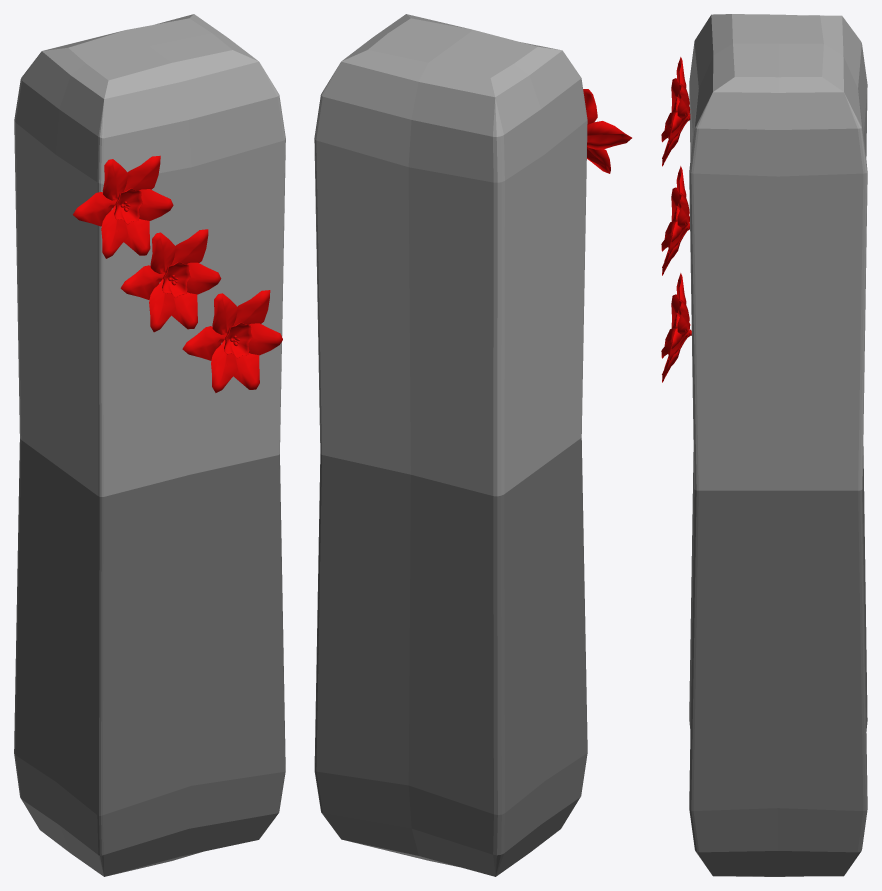
File: PL_LARGO_GEO.fbx
3 views of the same model, side by side, from view 1: azimuth 30°, elevation 25°; view 2: azimuth 150°, elevation 25°; view 3: azimuth 270°, elevation 25° (orthographic).
Parts seen in each view (by area): view 1: PL_Corto_DOWN3, Daffodil.yellow5, Daffodil.yellow6, Daffodil.yellow4; view 2: PL_Corto_DOWN3, Daffodil.yellow4; view 3: PL_Corto_DOWN3, Daffodil.yellow6, Daffodil.yellow4, Daffodil.yellow5.
Boxes of the visible parts, <box> form: PL_Corto_DOWN3: <box>14,14,285,876</box>; Daffodil.yellow5: <box>120,229,221,332</box>; Daffodil.yellow6: <box>182,290,282,392</box>; Daffodil.yellow4: <box>73,155,173,258</box>; PL_Corto_DOWN3: <box>314,14,587,876</box>; Daffodil.yellow4: <box>583,89,631,173</box>; PL_Corto_DOWN3: <box>689,14,867,876</box>; Daffodil.yellow6: <box>661,273,691,382</box>; Daffodil.yellow4: <box>661,57,690,166</box>; Daffodil.yellow5: <box>661,166,689,275</box>.
Size of the model in its own units: 1.43 by 4.88 by 1.13.
